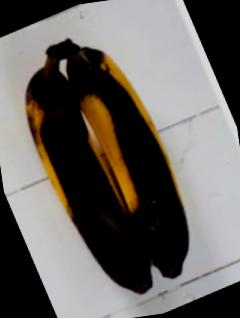Banana Overripe: (0, 4, 230, 318)
